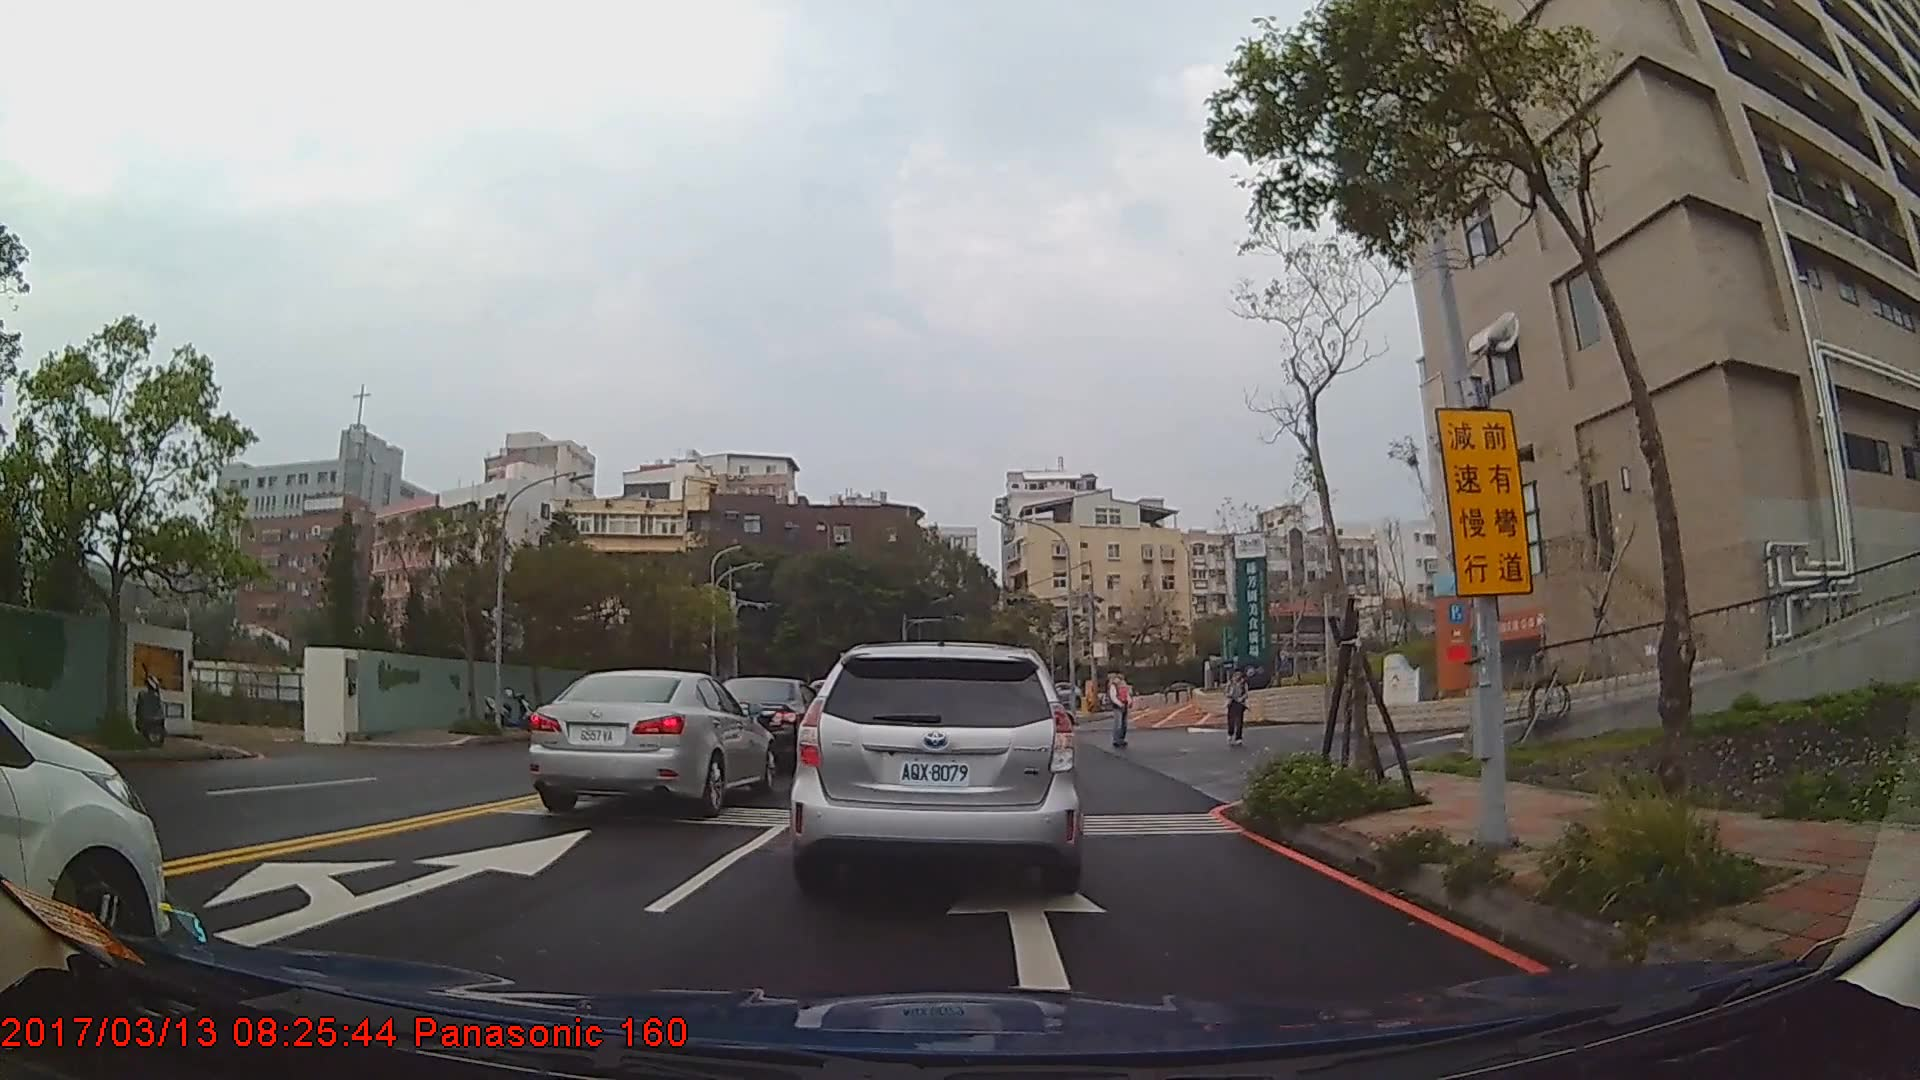pedestrian: (1106, 669, 1135, 747), (1226, 670, 1251, 747)
vehicle: (790, 638, 1085, 893), (0, 700, 168, 956), (525, 668, 776, 814), (707, 674, 826, 766)
